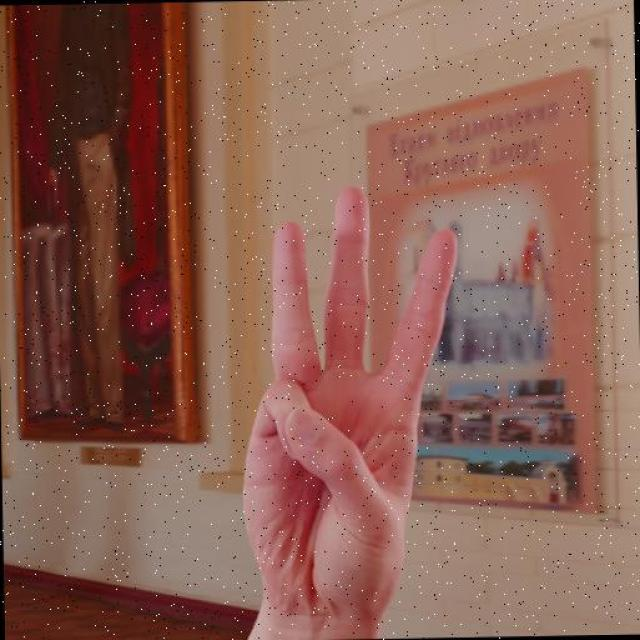W: (234, 170, 473, 630)
